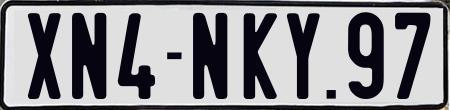4: (115, 13, 153, 104)
7: (394, 10, 431, 99)
9: (347, 9, 385, 101)
K: (242, 11, 277, 98)
N: (72, 11, 110, 100), (193, 13, 231, 102)
X: (28, 10, 67, 102)
Y: (286, 10, 321, 101)
